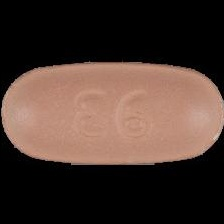61919-160: (0, 0, 224, 224)
